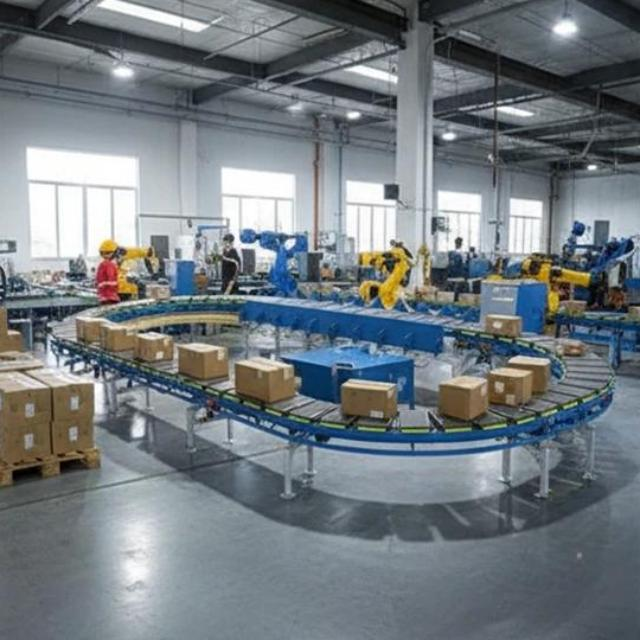box: (236, 358, 295, 403), (341, 379, 397, 420), (440, 376, 488, 420), (179, 343, 229, 379), (488, 367, 532, 405), (508, 356, 551, 393), (135, 332, 174, 361), (101, 322, 136, 351), (486, 314, 523, 337), (77, 315, 109, 341), (557, 338, 585, 356)
